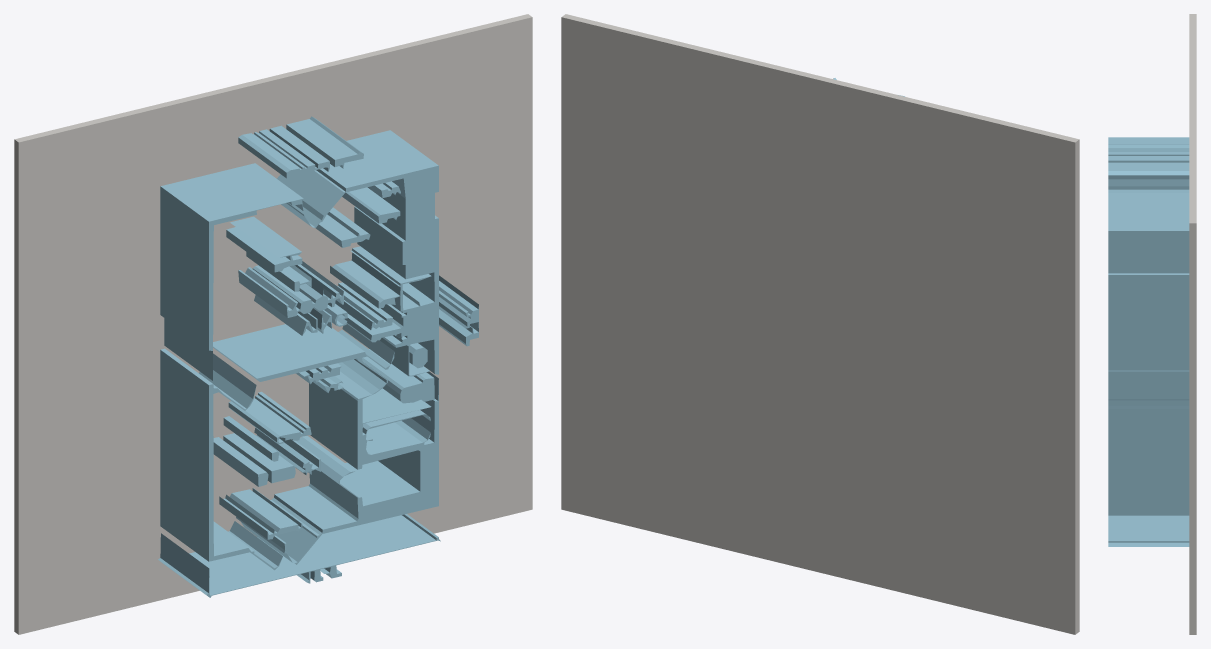
3 views of the same model, side by side, from view 1: azimuth 30°, elevation 25°; view 2: azimuth 150°, elevation 25°; view 3: azimuth 270°, elevation 25° (orthographic). The views are drawn at different scales.
Parts seen in each view (by area): view 1: world; view 2: world; view 3: world.
Boxes of the visible parts, x1,y1,x2,y2 form: world: [14, 14, 532, 634]; world: [561, 14, 1079, 634]; world: [1108, 14, 1196, 634].
Size of the model in its own units: 10.23 by 9.37 by 1.82.
